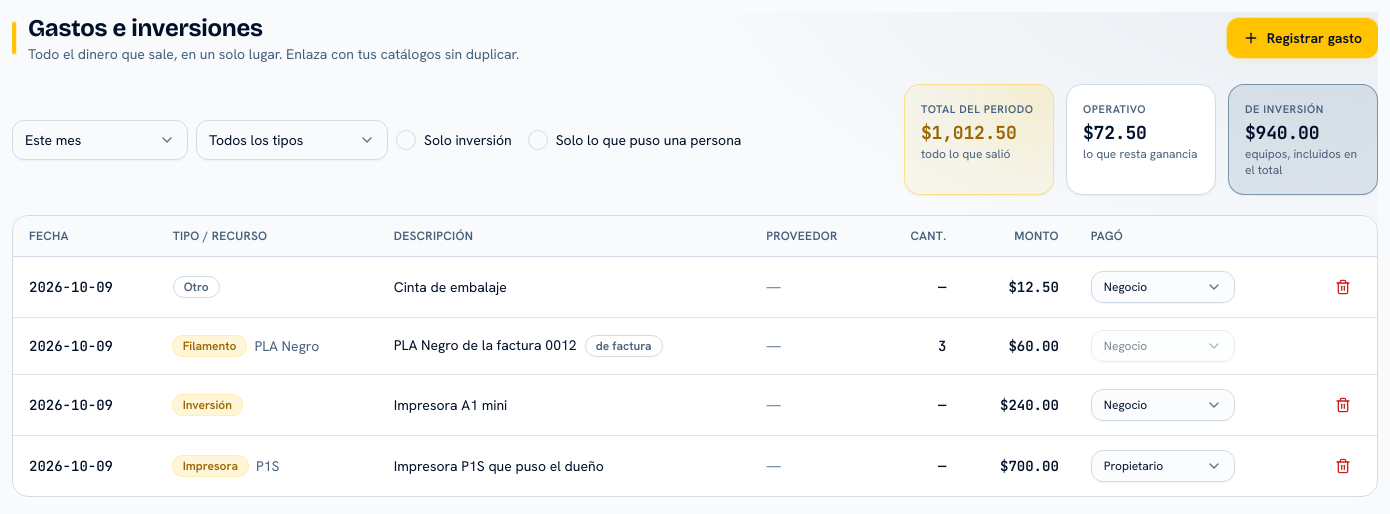
it: Gastos: las dos casillas › al marcar "Solo inversión" deja las dos inversiones y nombra la casilla
Click the checkbox labelled "Solo inversión": click(454, 140) left=396, top=130, right=512, bottom=150
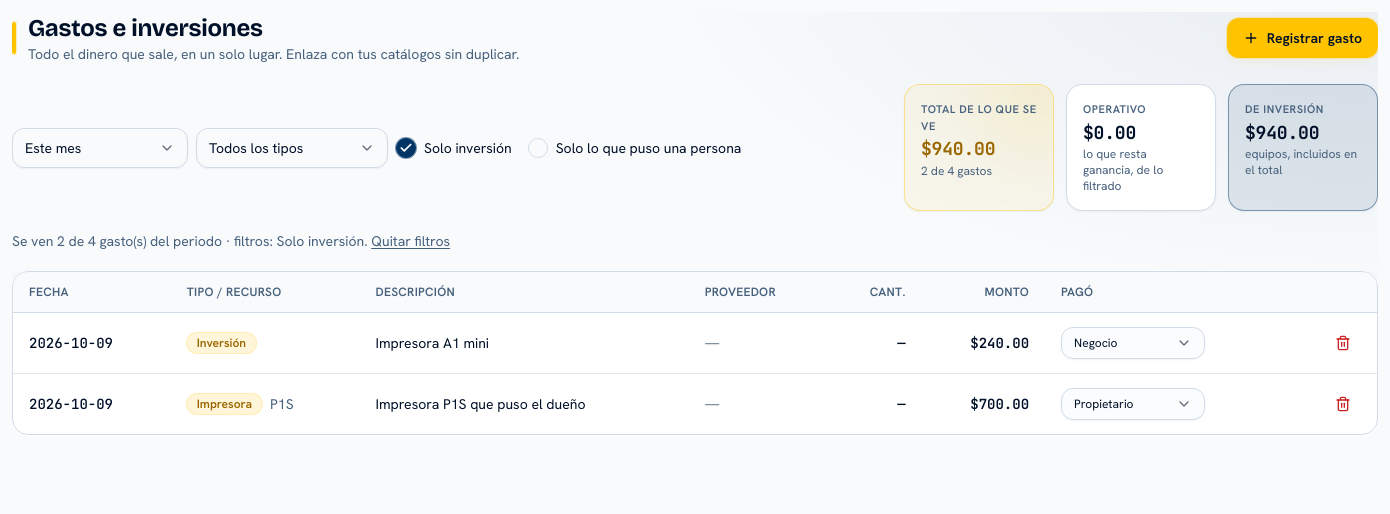
Now the text "Cinta de embalaje" is not shown
Now the text "Impresora A1 mini" is shown 2 times
Now the text "Impresora P1S que puso el dueño" is shown 2 times
